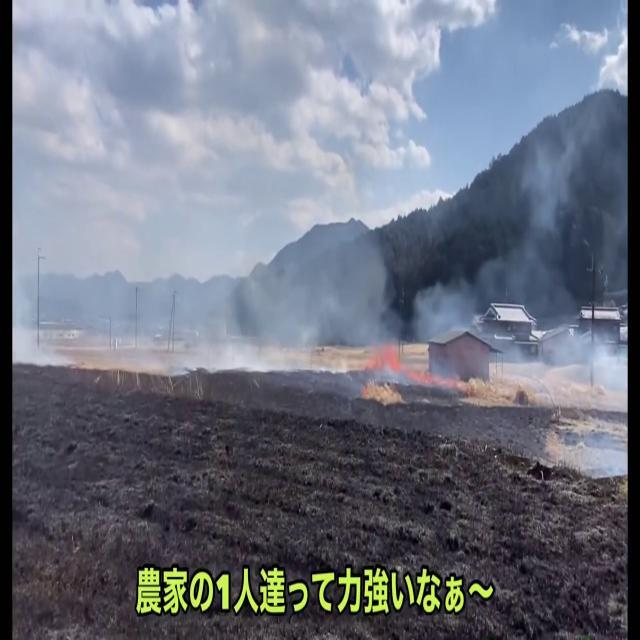Smoke: (96, 147, 400, 400), (484, 83, 640, 368)
